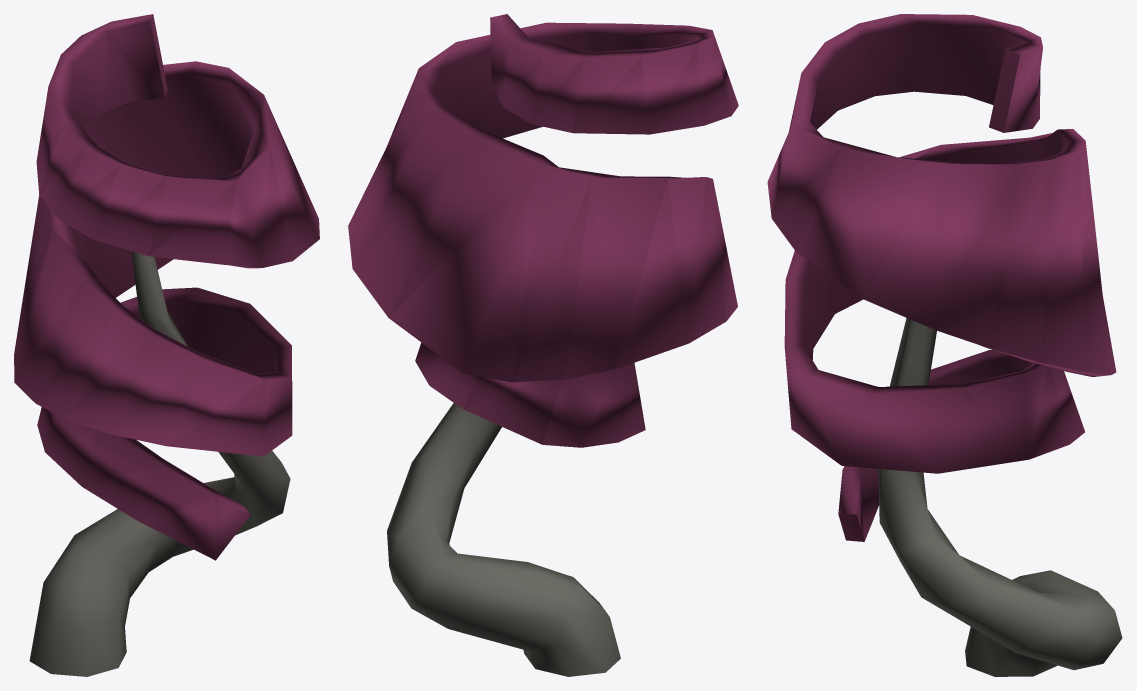
The model's file is space-tree-spiral.glb.
3 renders of one model, left to right at view 1: azimuth 30°, elevation 25°; view 2: azimuth 150°, elevation 25°; view 3: azimuth 270°, elevation 25°, orthographic. The views are drawn at different scales.
Parts seen in each view (by area): view 1: space-tree-spiral; view 2: space-tree-spiral; view 3: space-tree-spiral.
Part boxes in pixels (x1,y1,x2,y2): space-tree-spiral: (14,14,319,676); space-tree-spiral: (348,14,738,676); space-tree-spiral: (767,14,1122,676).
Bounding box in the file's own units: 1.79 × 3.4 × 1.7.
